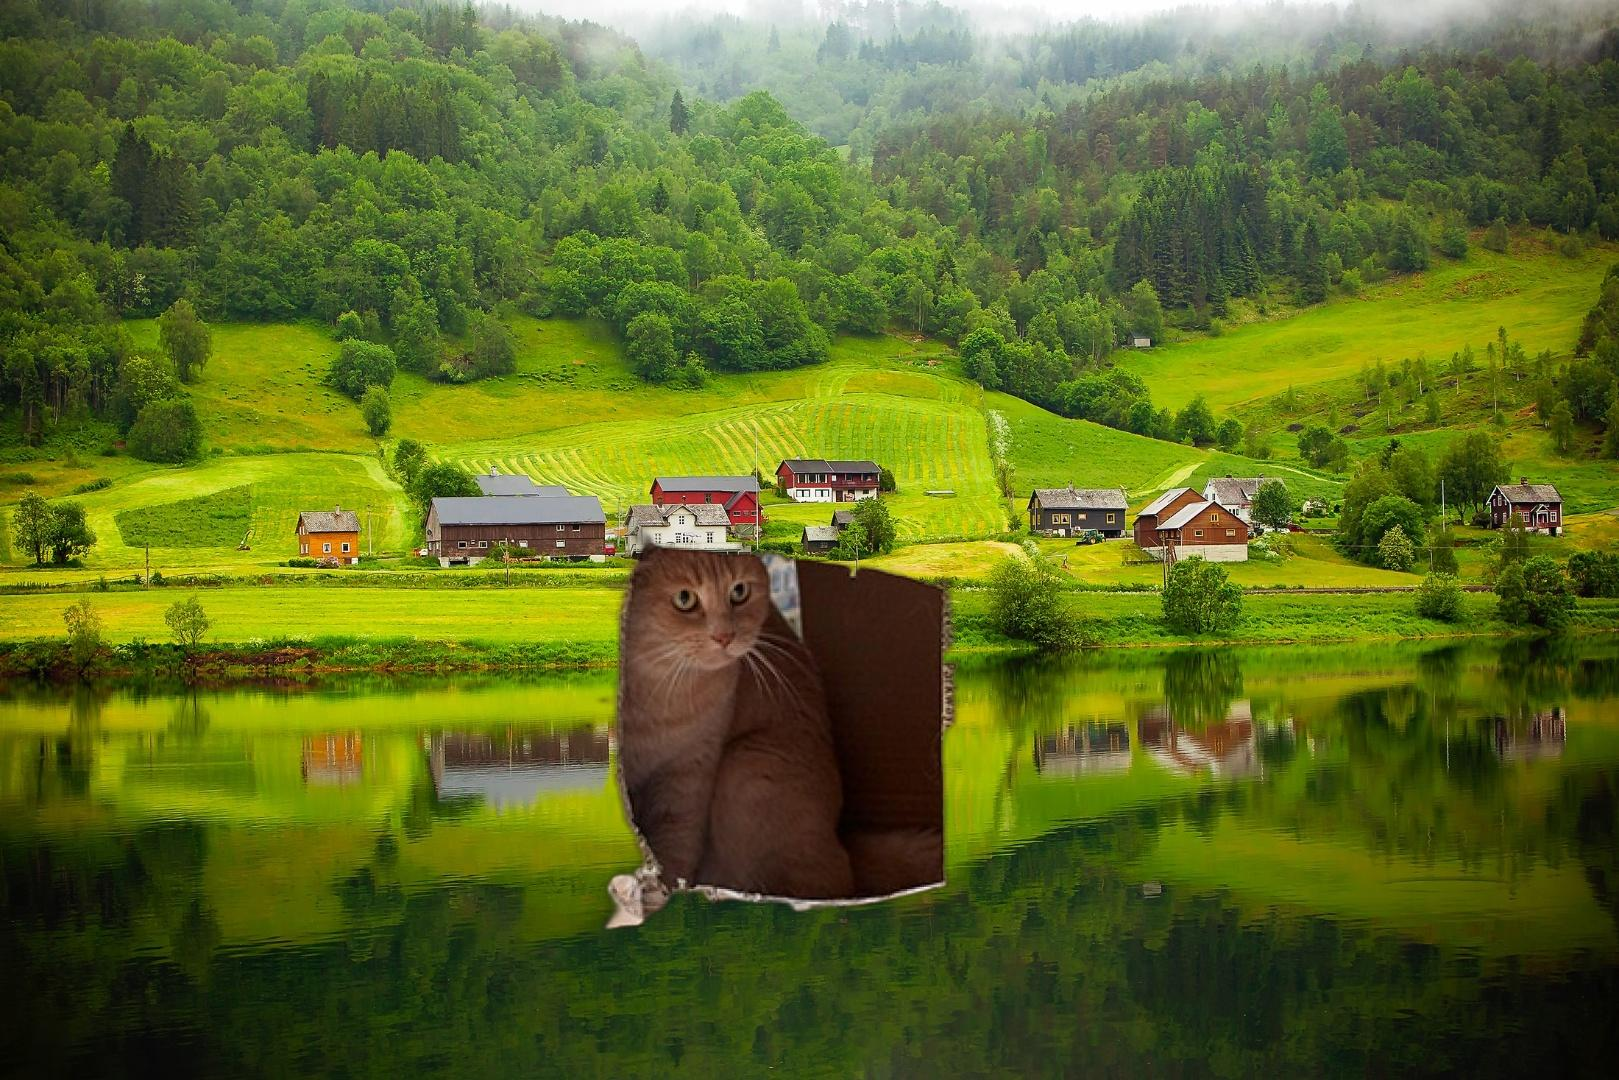trashbox-cardboard: (575, 483, 975, 991)
